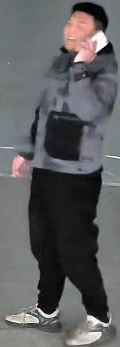phone: (42, 3, 111, 111)
